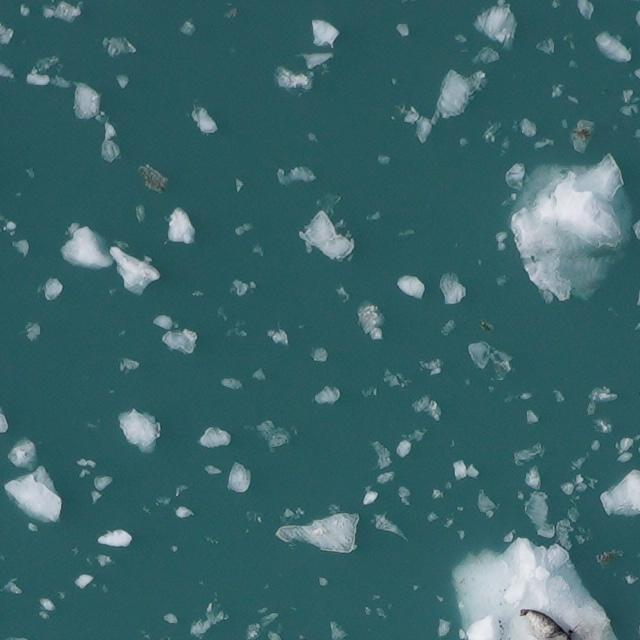seal: (519, 607, 571, 639)
